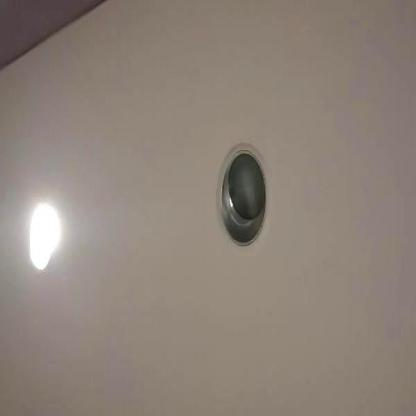light_off: (207, 109, 278, 279)
